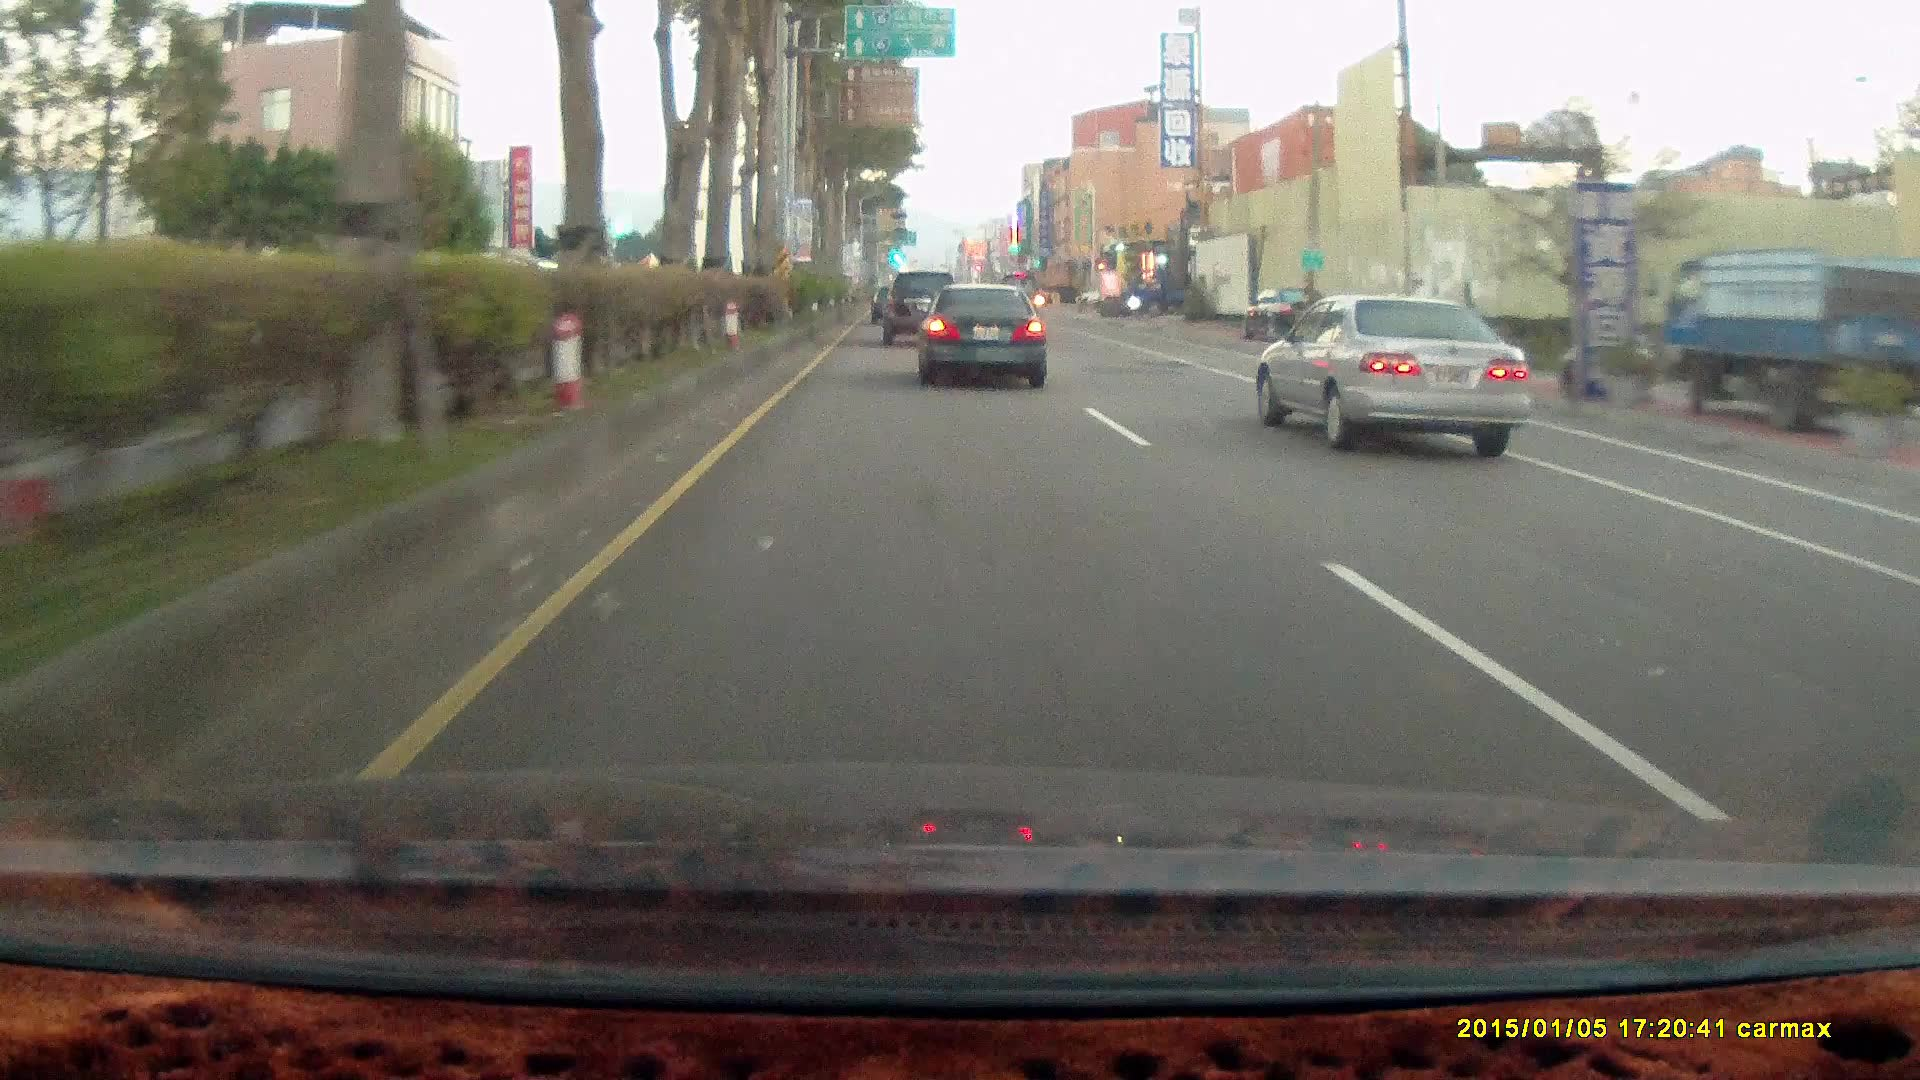vehicle: (1654, 249, 1920, 433), (1269, 295, 1544, 462), (1253, 293, 1530, 458), (913, 280, 1046, 385), (916, 286, 1048, 390), (882, 270, 963, 348), (1127, 269, 1207, 316)
